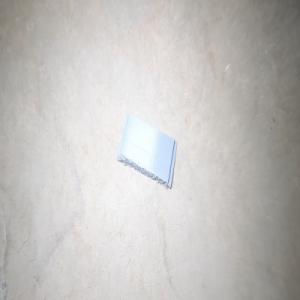PlasticPart: (116, 112, 177, 190)
